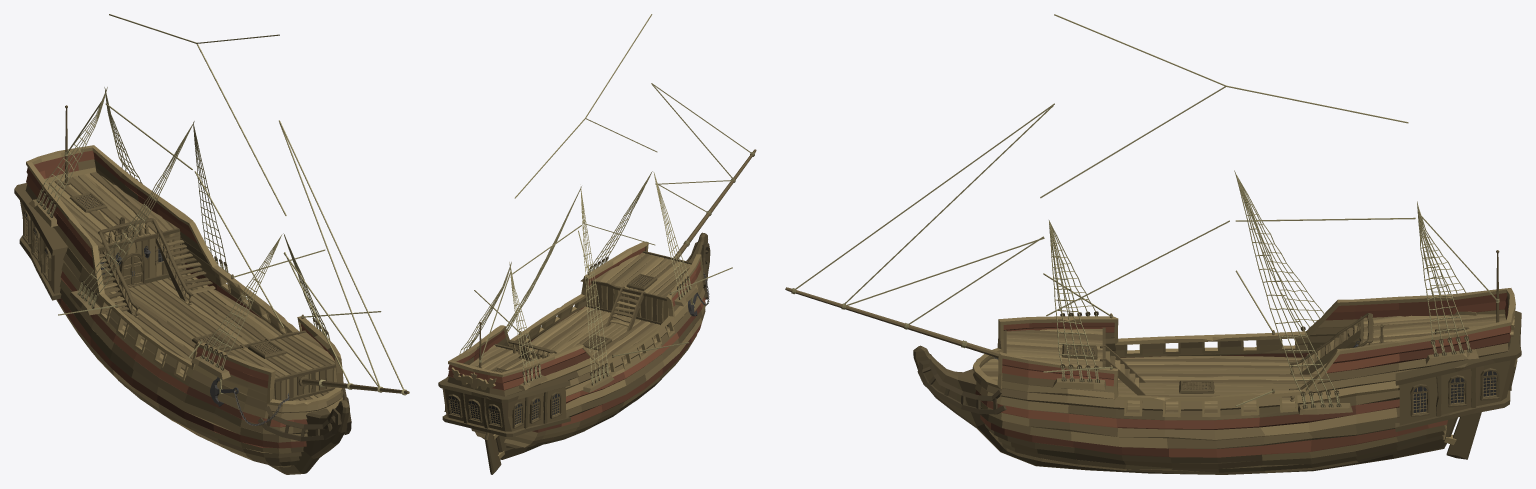
File: LargeShip_3.fbx
3 views of the same model, side by side, from view 1: azimuth 30°, elevation 25°; view 2: azimuth 150°, elevation 25°; view 3: azimuth 270°, elevation 25° (orthographic). The views are drawn at different scales.
Visible parts, largest first — view 1: LargeShip_3; view 2: LargeShip_3; view 3: LargeShip_3.
Part boxes in pixels (left/top/right/bottom): LargeShip_3: left=14, top=14, right=409, bottom=474; LargeShip_3: left=438, top=14, right=756, bottom=474; LargeShip_3: left=785, top=14, right=1521, bottom=474.
Bounding box in the file's own units: 2080 × 3285 × 4766.
